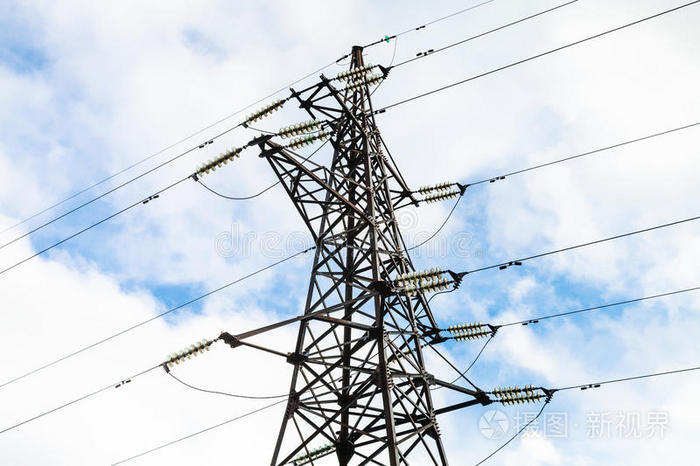insulator: (280, 118, 329, 149), (195, 146, 239, 179), (165, 337, 213, 367), (338, 63, 385, 93), (398, 269, 452, 295), (492, 383, 544, 407), (416, 180, 462, 203), (246, 98, 285, 124), (447, 322, 493, 343)
